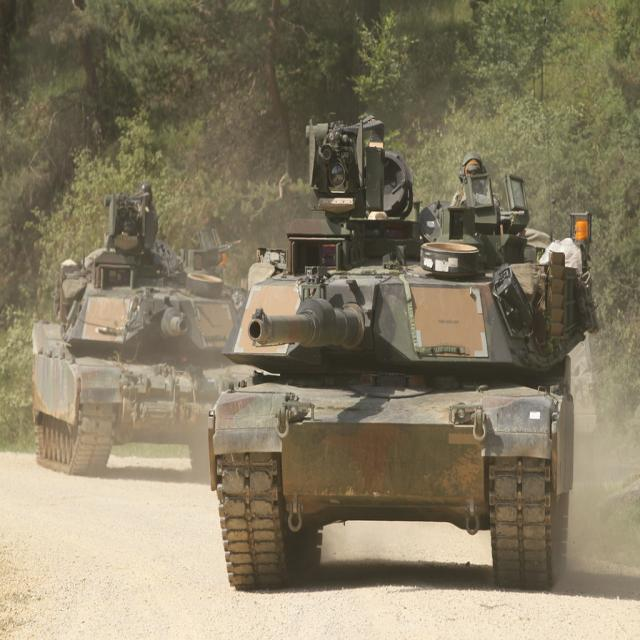tank: (206, 108, 602, 583), (28, 179, 248, 474)
